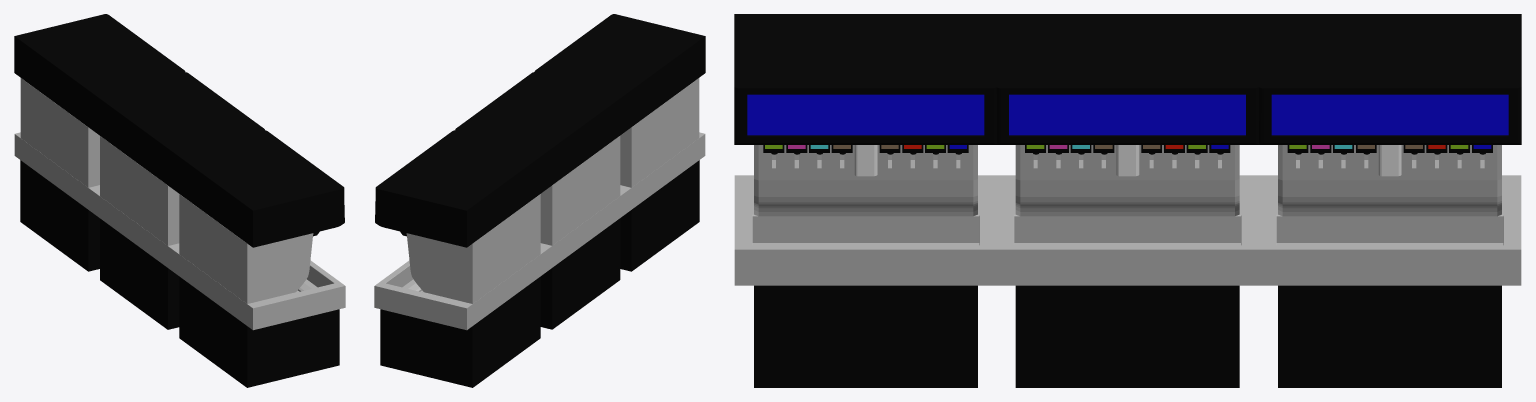
Rendered from Sodamachine.fbx.
3 renders of one model, left to right at view 1: azimuth 30°, elevation 25°; view 2: azimuth 150°, elevation 25°; view 3: azimuth 270°, elevation 25°, orthographic. The views are drawn at different scales.
Visible parts, largest first — view 1: Cube.006, Cube.082, Cube.069, Cube.001, Cube.002, Cube, Cube.077, Cube.074, Cube.078, Cube.073, Cube.076, Cube.075; view 2: Cube.082, Cube.069, Cube.006, Cube.077, Cube.078, Cube.074, Cube.076, Cube.001, Cube.073, Cube.002, Cube.075, Cube; view 3: Cube.082, Cube.006, Cube.069, Cube.074, Cube.001, Cube.077, Cube.076, Cube, Cube.075, Cube.073, Cube.078, Cube.002 (+6 smaller).
Part boxes in pixels (<box>): Cube.006: <box>173,130,344,247</box>; Cube.082: <box>14,14,185,130</box>; Cube.069: <box>94,72,264,189</box>; Cube.001: <box>179,276,339,387</box>; Cube.002: <box>179,194,313,303</box>; Cube: <box>173,249,345,330</box>; Cube.077: <box>20,160,99,271</box>; Cube.074: <box>100,218,179,329</box>; Cube.078: <box>20,78,99,187</box>; Cube.073: <box>100,136,179,245</box>; Cube.076: <box>14,132,99,213</box>; Cube.075: <box>94,191,179,271</box>; Cube.082: <box>375,130,546,247</box>; Cube.069: <box>455,72,626,188</box>; Cube.006: <box>534,14,705,130</box>; Cube.077: <box>380,276,540,387</box>; Cube.078: <box>406,194,540,303</box>; Cube.074: <box>540,218,620,329</box>; Cube.076: <box>374,249,546,330</box>; Cube.001: <box>620,160,699,271</box>; Cube.073: <box>540,136,620,245</box>; Cube.002: <box>620,78,699,187</box>; Cube.075: <box>540,190,625,271</box>; Cube: <box>620,132,705,213</box>; Cube.082: <box>1258,14,1521,144</box>; Cube.006: <box>734,14,997,144</box>; Cube.069: <box>996,14,1259,144</box>; Cube.074: <box>1015,285,1239,387</box>; Cube.001: <box>754,285,977,387</box>; Cube.077: <box>1278,285,1501,387</box>; Cube.076: <box>1258,175,1521,285</box>; Cube: <box>734,175,997,285</box>; Cube.075: <box>996,175,1258,285</box>; Cube.073: <box>1015,145,1239,216</box>; Cube.078: <box>1278,145,1501,216</box>; Cube.002: <box>754,145,977,216</box>.
Bounding box in the file's own units: 694 × 1302 × 3100.
